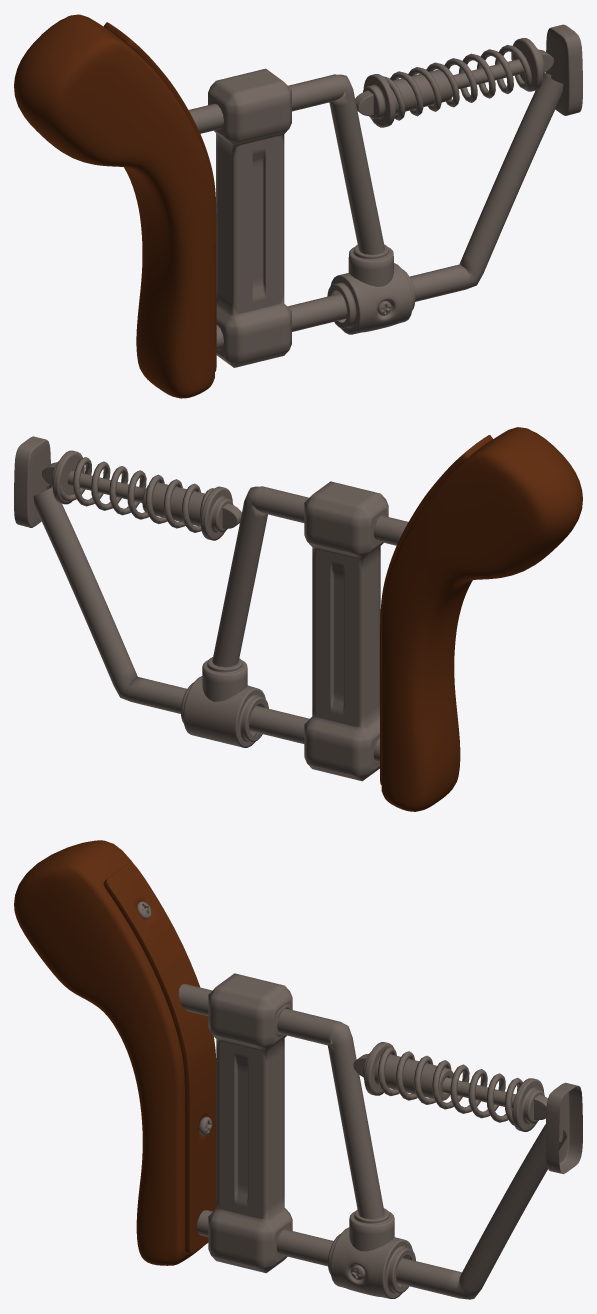
The model's file is stock_04.fbx.
The picture shows the model from 3 angles, top to bottom: view 1: azimuth 30°, elevation 25°; view 2: azimuth 150°, elevation 25°; view 3: azimuth 330°, elevation 25°; orthographic projection.
Parts seen in each view (by area): view 1: Plane.002, Cube.029, BezierCurve.003, Circle.067, Circle.071, AK47.015, Circle.065, Circle.066, Circle.072, Plane.121, Cylinder.018; view 2: Plane.002, Cube.029, BezierCurve.003, Circle.067, Circle.071, AK47.015, Circle.065, Circle.066, Circle.072, Plane.121, Cylinder.018; view 3: Plane.002, Cube.029, BezierCurve.003, Plane.121, Circle.067, Circle.071, AK47.015, Circle.065, Circle.066, Circle.072.
Part boxes in pixels (left/top/right/bottom): Plane.002: left=14, top=14, right=215, bottom=398; Cube.029: left=208, top=68, right=291, bottom=367; BezierCurve.003: left=188, top=73, right=563, bottom=350; Circle.067: left=383, top=45, right=531, bottom=120; Circle.071: left=327, top=263, right=415, bottom=334; AK47.015: left=545, top=24, right=582, bottom=115; Circle.065: left=392, top=59, right=524, bottom=113; Circle.066: left=363, top=38, right=544, bottom=127; Circle.072: left=348, top=244, right=393, bottom=286; Plane.121: left=103, top=22, right=216, bottom=371; Cylinder.018: left=355, top=49, right=553, bottom=115; Plane.002: left=381, top=427, right=582, bottom=811; Cube.029: left=304, top=481, right=388, bottom=781; BezierCurve.003: left=33, top=485, right=408, bottom=762; Circle.067: left=60, top=457, right=213, bottom=532; Circle.071: left=181, top=676, right=268, bottom=747; AK47.015: left=14, top=436, right=50, bottom=527; Circle.065: left=67, top=471, right=204, bottom=526; Circle.066: left=51, top=450, right=233, bottom=540; Circle.072: left=202, top=657, right=247, bottom=701; Plane.121: left=380, top=435, right=492, bottom=784; Cylinder.018: left=42, top=462, right=241, bottom=528; Plane.002: left=14, top=840, right=202, bottom=1265; Cube.029: left=208, top=973, right=292, bottom=1273; BezierCurve.003: left=178, top=984, right=566, bottom=1299; Plane.121: left=103, top=863, right=216, bottom=1254; Circle.067: left=378, top=1047, right=522, bottom=1125; Circle.071: left=328, top=1227, right=415, bottom=1298; AK47.015: left=545, top=1082, right=582, bottom=1174; Circle.065: left=374, top=1054, right=515, bottom=1108; Circle.066: left=363, top=1042, right=544, bottom=1131; Circle.072: left=349, top=1208, right=394, bottom=1251.
Size of the model in its own units: 120 by 80.13 by 16.67.
